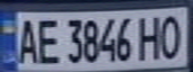3: (60, 15, 84, 64)
4: (100, 15, 121, 63)
6: (115, 14, 139, 62)
8: (81, 16, 100, 64)
A: (12, 15, 42, 65)
E: (33, 15, 60, 65)
H: (136, 11, 166, 61)
O: (157, 11, 187, 60)
